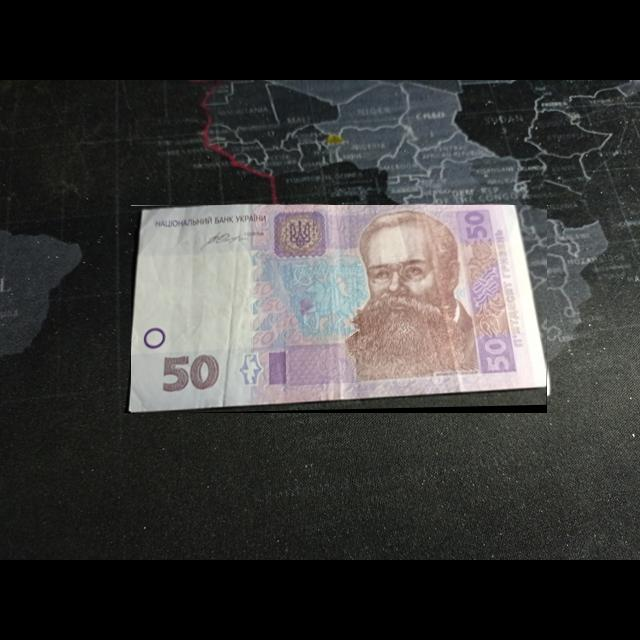50uah: (131, 205, 548, 414)
